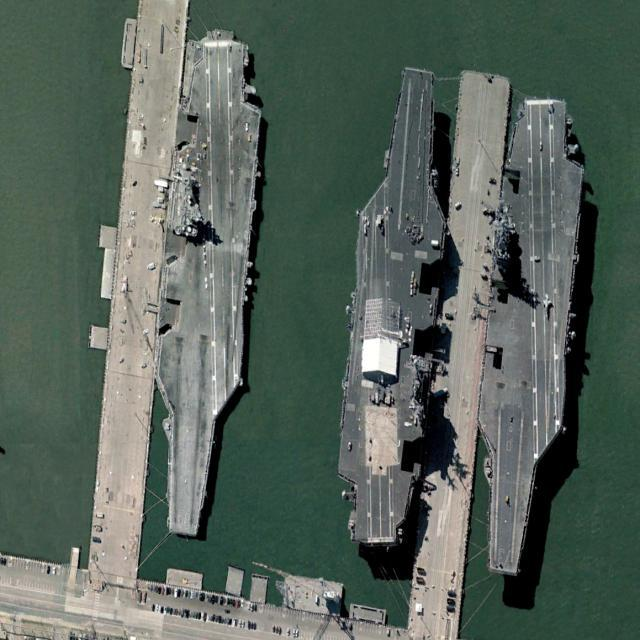Aircraft Carrier: (140, 20, 273, 544), (461, 88, 594, 582), (329, 58, 460, 556)
